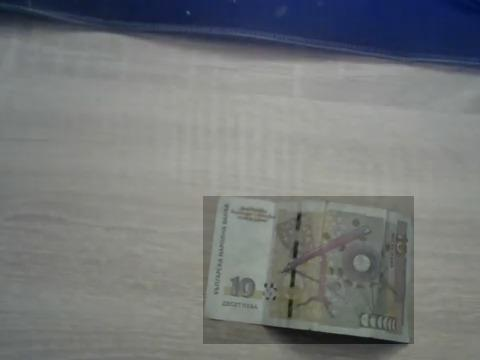10leva: (203, 196, 414, 344)
